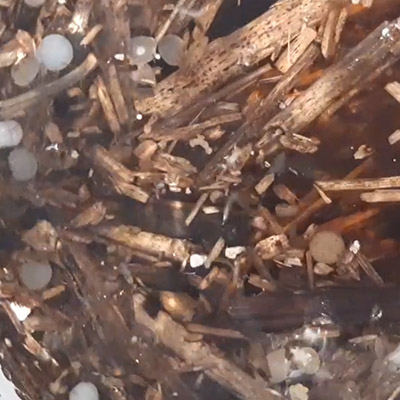nurdle: (304, 229, 353, 270), (15, 253, 56, 297), (34, 34, 76, 73), (8, 148, 44, 184), (122, 33, 159, 67), (157, 35, 189, 70), (292, 346, 324, 378)
